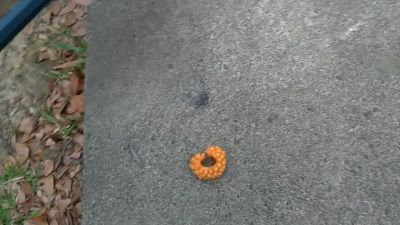eggs: (186, 145, 229, 182)
